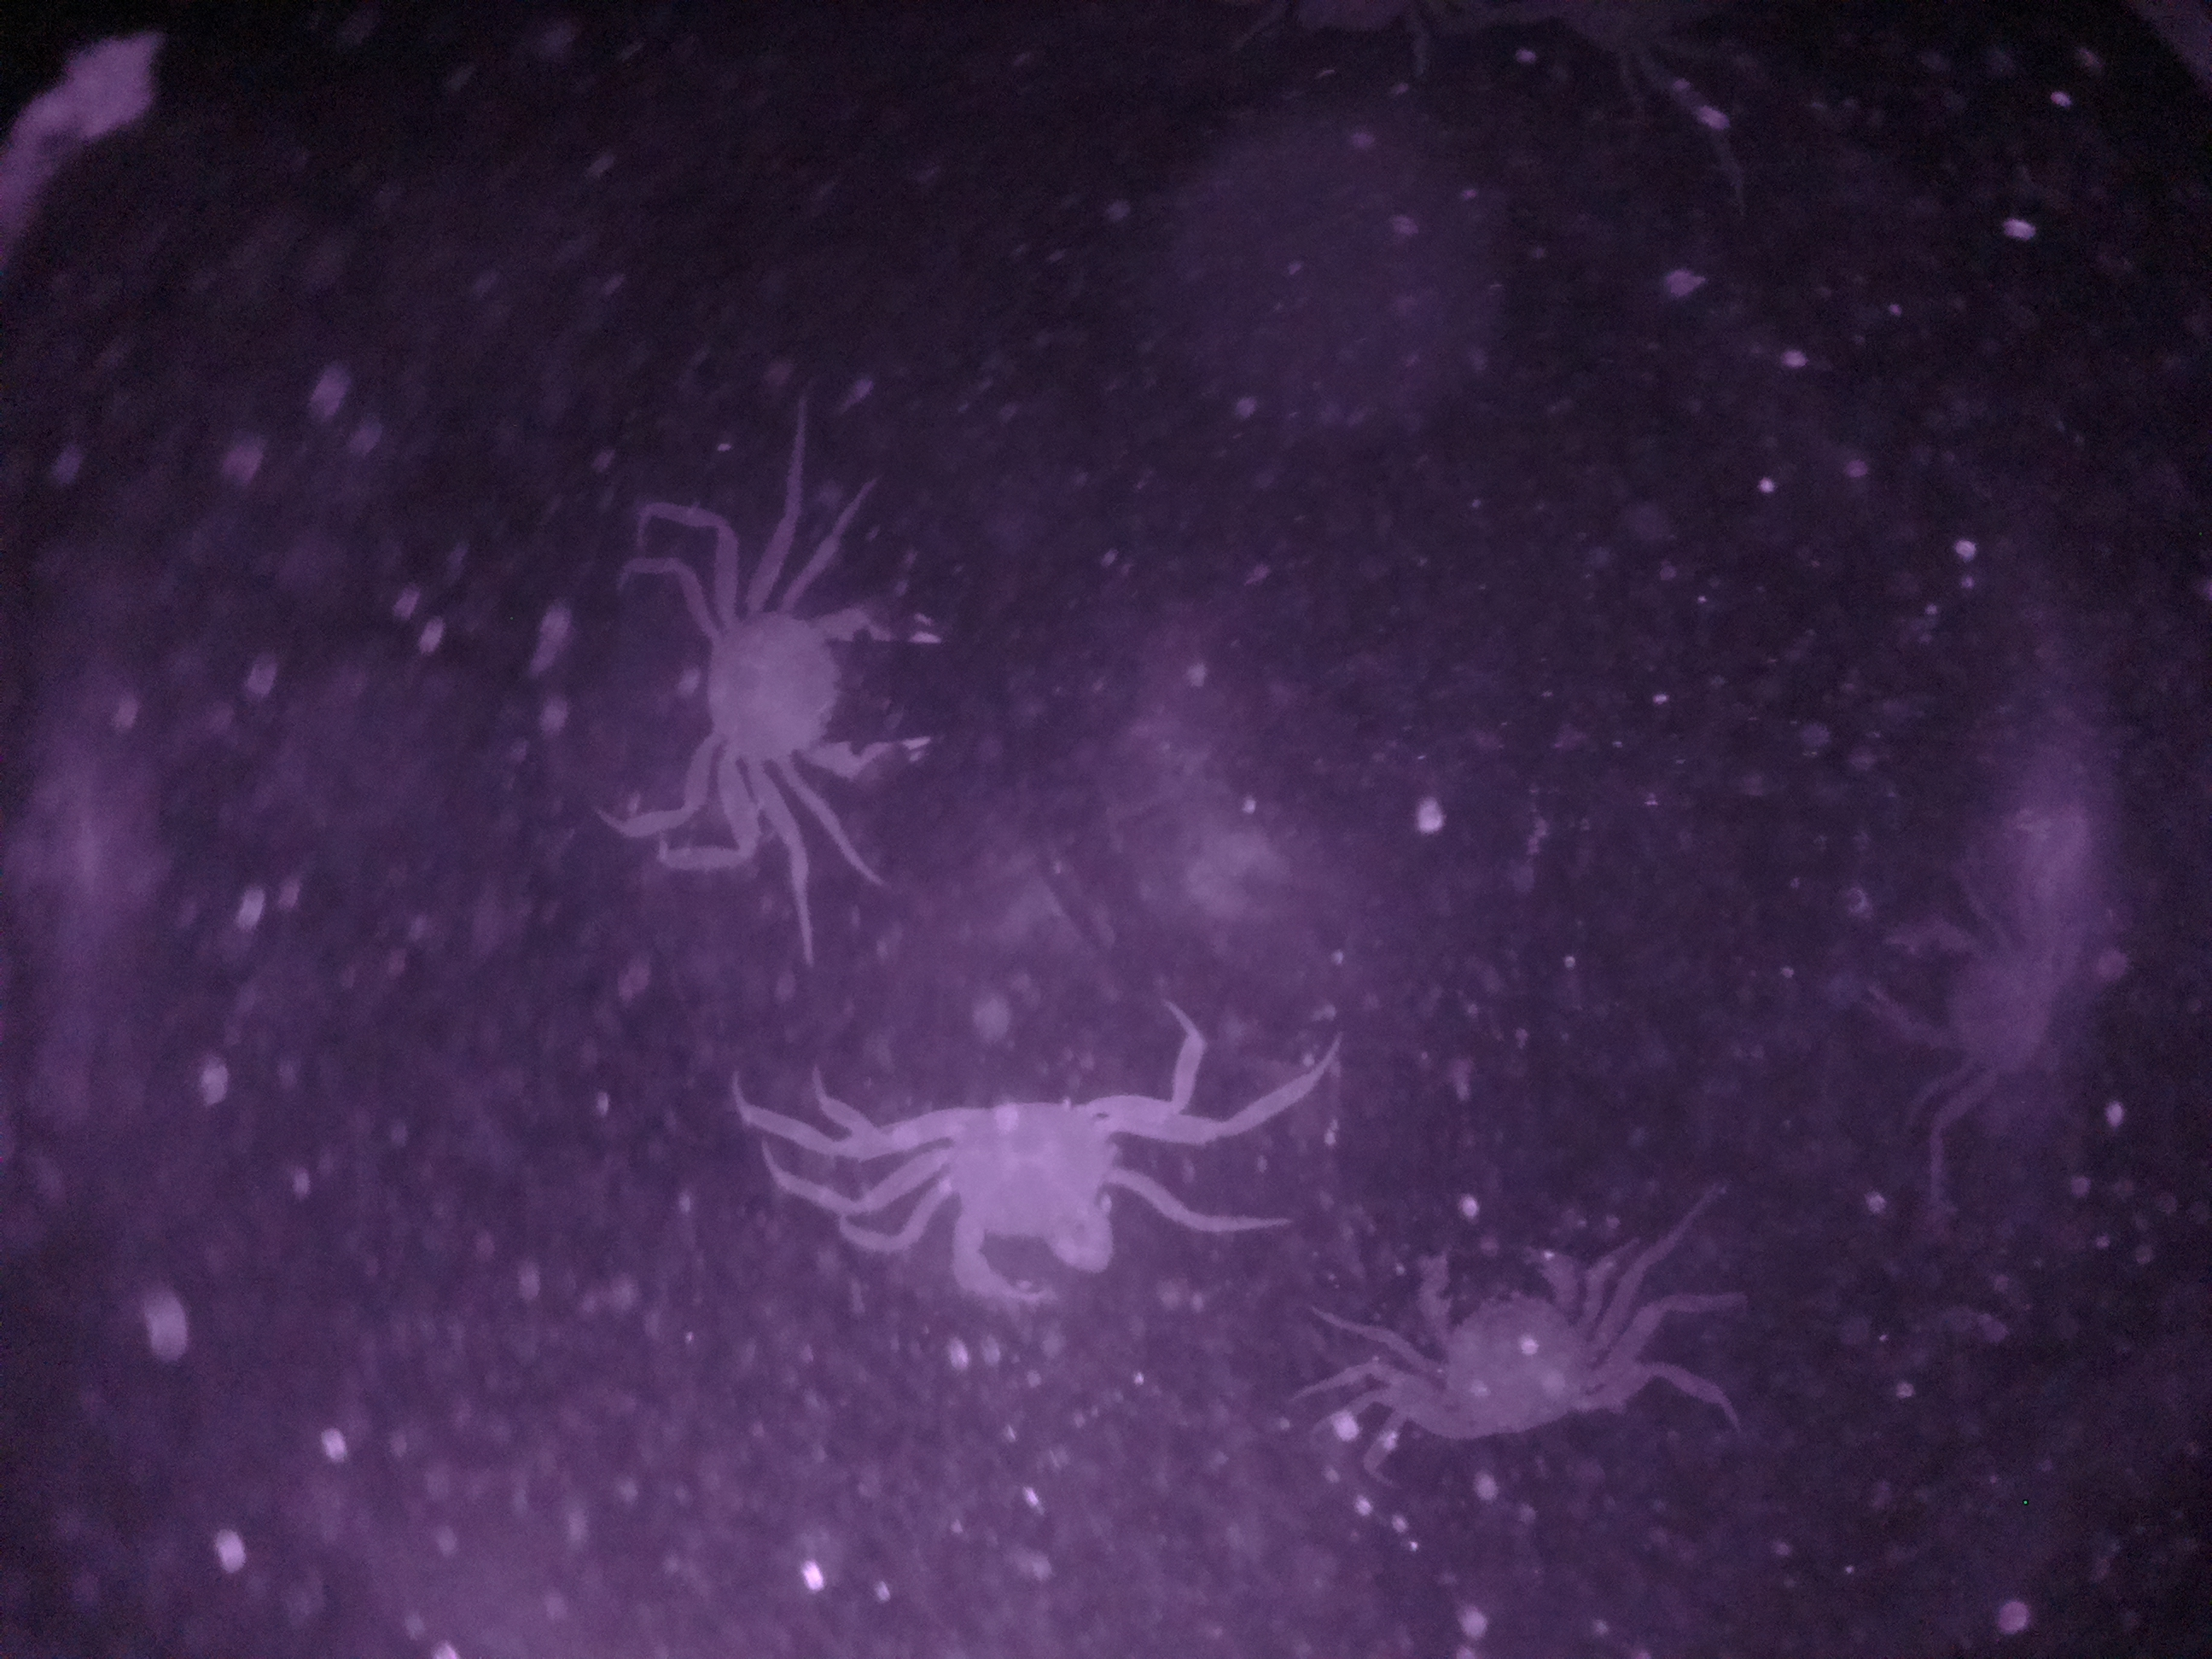Crab: (880, 1054, 1200, 1317), (650, 580, 991, 826), (1367, 1220, 1637, 1460)
